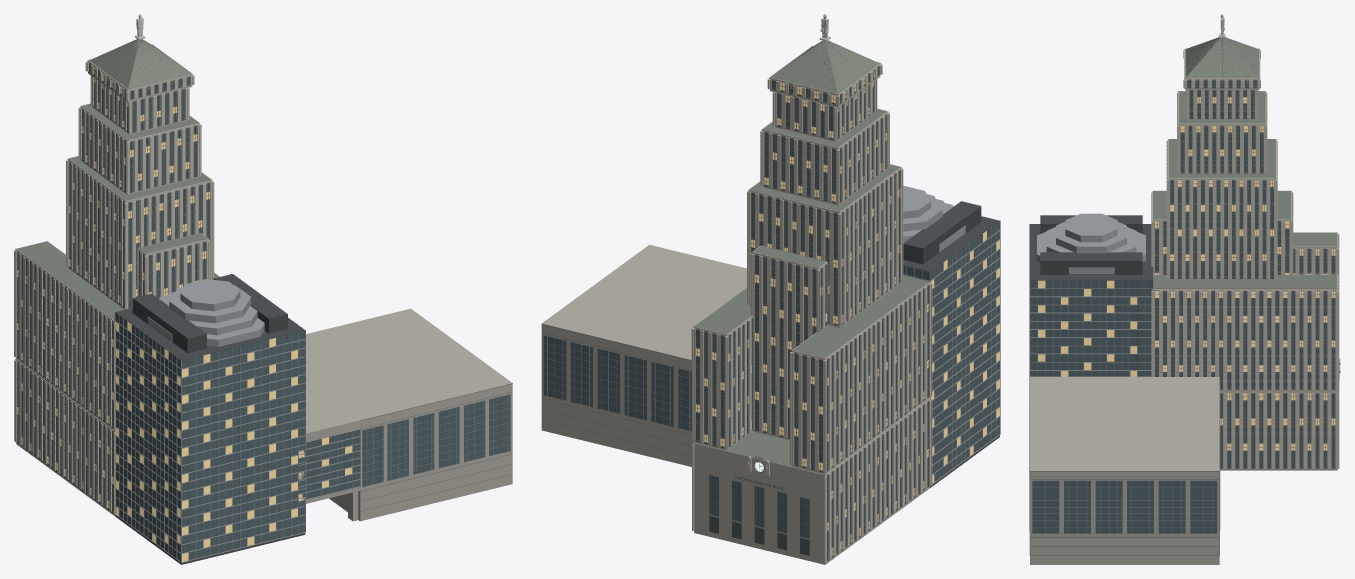
The model's file is board_of_trade.glb.
The picture shows the model from 3 angles, left to right: view 1: azimuth 30°, elevation 25°; view 2: azimuth 150°, elevation 25°; view 3: azimuth 270°, elevation 25°; orthographic projection. The views are drawn at different scales.
Parts seen in each view (by area): view 1: Unlit recessed glazing, Raised pale limestone, Grey Indiana limestone, Silver annex frames, Recessed bronze spandrels, Night occupied windows, Standing seam copper roof, Black annex cladding; view 2: Raised pale limestone, Unlit recessed glazing, Grey Indiana limestone, Recessed bronze spandrels, Standing seam copper roof, Silver annex frames, Night occupied windows, Black annex cladding; view 3: Grey Indiana limestone, Unlit recessed glazing, Raised pale limestone, Recessed bronze spandrels, Silver annex frames, Standing seam copper roof, Night occupied windows, Black annex cladding.
Part boxes in pixels (<box>): Unlit recessed glazing: <box>17,63,510,561</box>; Raised pale limestone: <box>14,44,219,514</box>; Grey Indiana limestone: <box>16,63,512,521</box>; Silver annex frames: <box>114,279,507,562</box>; Recessed bronze spandrels: <box>17,64,512,512</box>; Night occupied windows: <box>17,67,352,561</box>; Standing seam copper roof: <box>16,39,219,320</box>; Black annex cladding: <box>115,274,305,564</box>; Raised pale limestone: <box>691,20,932,562</box>; Unlit recessed glazing: <box>543,66,999,559</box>; Grey Indiana limestone: <box>541,66,929,564</box>; Recessed bronze spandrels: <box>541,67,929,561</box>; Standing seam copper roof: <box>694,40,929,466</box>; Silver annex frames: <box>547,185,1000,484</box>; Night occupied windows: <box>696,70,999,555</box>; Black annex cladding: <box>903,201,999,487</box>; Grey Indiana limestone: <box>1030,79,1340,564</box>; Unlit recessed glazing: <box>1030,80,1335,533</box>; Raised pale limestone: <box>1151,18,1340,468</box>; Recessed bronze spandrels: <box>1029,80,1338,555</box>; Silver annex frames: <box>1029,213,1220,533</box>; Standing seam copper roof: <box>1153,37,1337,288</box>; Night occupied windows: <box>1038,97,1335,450</box>; Black annex cladding: <box>1030,215,1152,376</box>.
Size of the model in its own units: 140 by 184 by 121.
